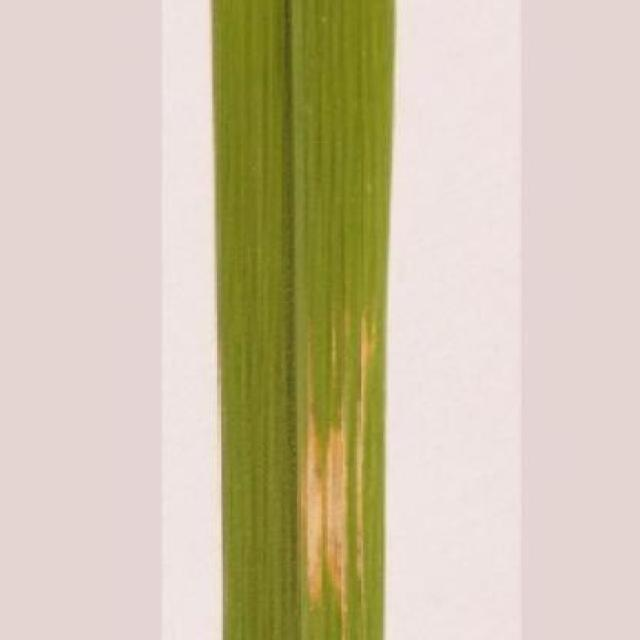Brown_Spot: (211, 0, 400, 640)
